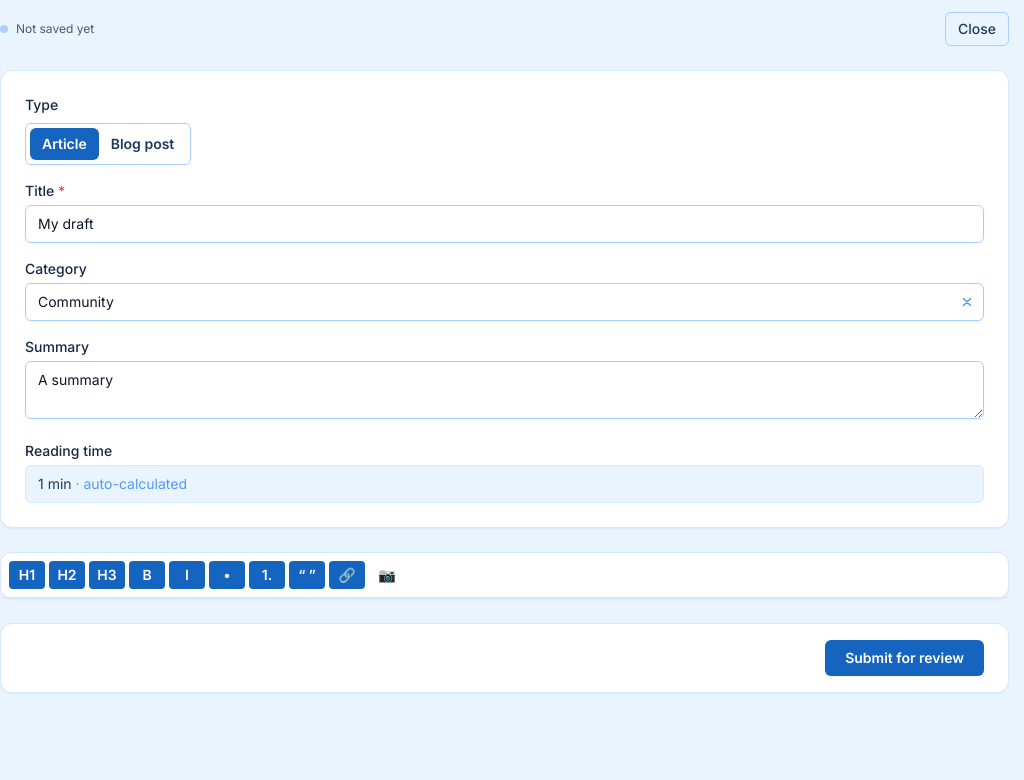
DraftEditor › says nothing-to-review gently when the revision matches what is published
Click the button "Submit for review" at (905, 658), box [825,640,984,676]
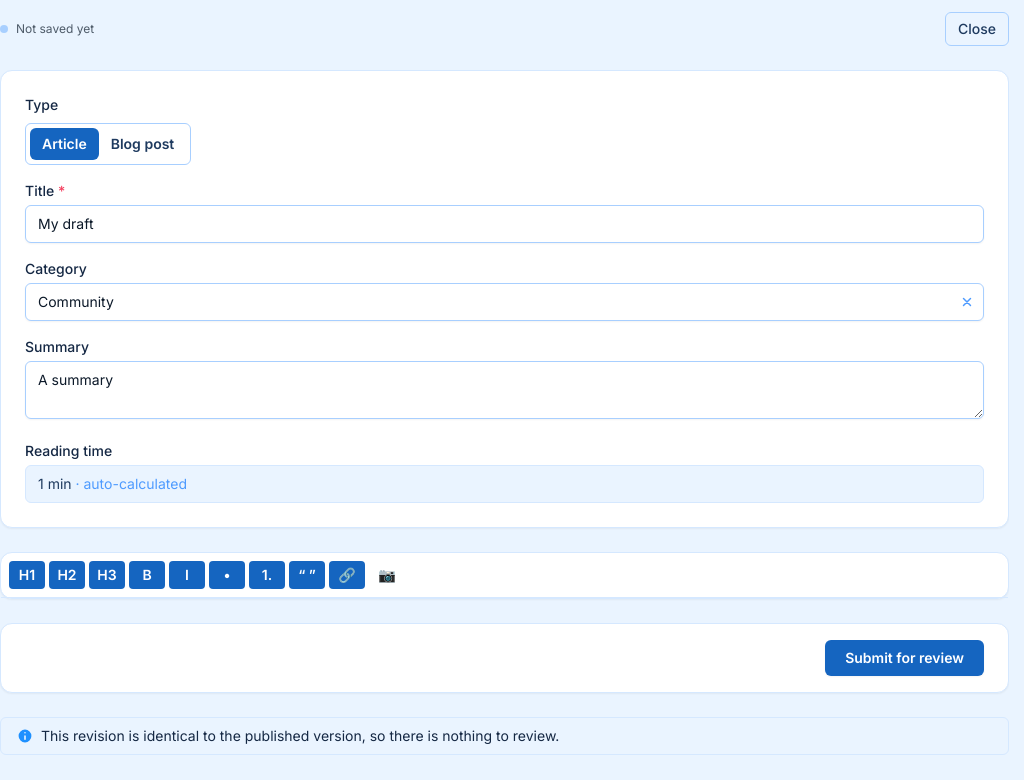
Expected: the element with test id "draft-submit-notice" is shown, [0,717,1009,755]
Expected: the element with test id "draft-submit-notice" shows "nothing to review", [41,727,559,744]
